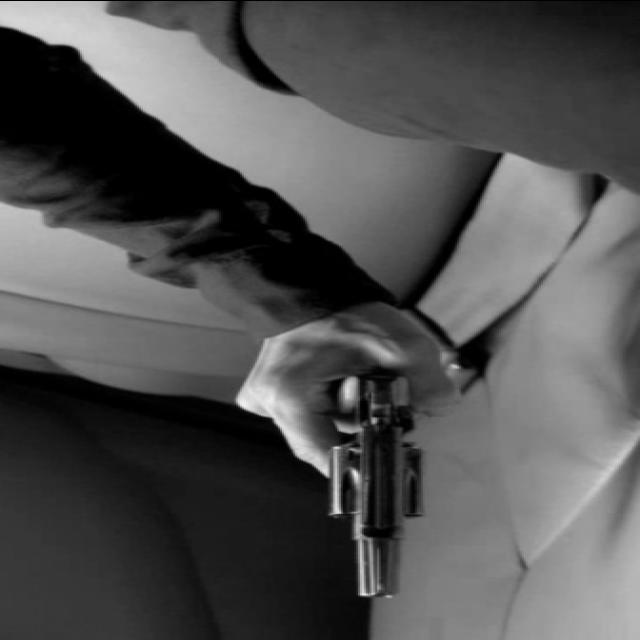weapons: (258, 333, 456, 612)
